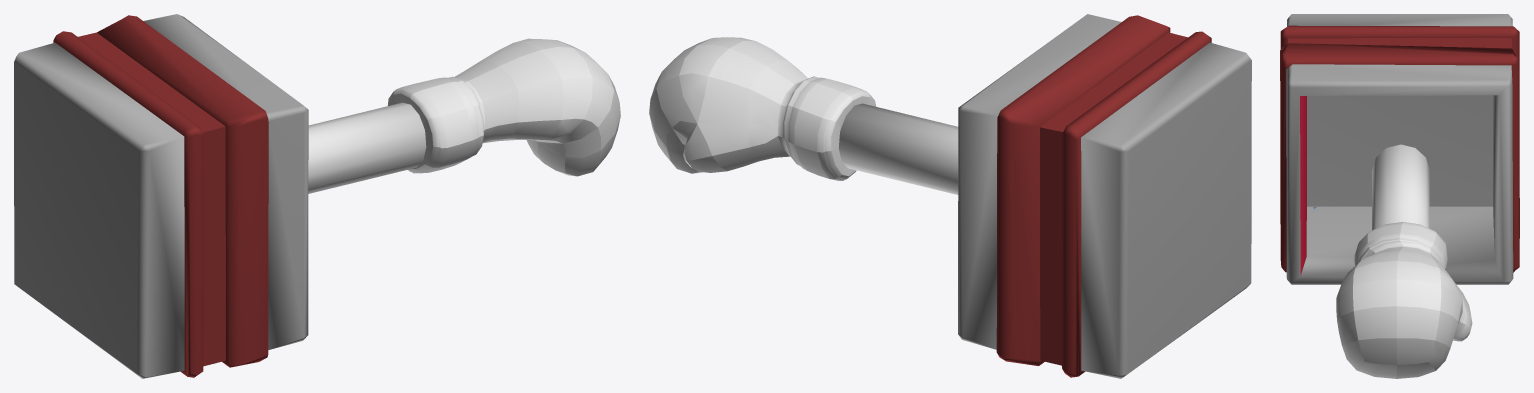
Rendered from Boxer.fbx.
The picture shows the model from 3 angles, left to right: view 1: azimuth 30°, elevation 25°; view 2: azimuth 150°, elevation 25°; view 3: azimuth 270°, elevation 25°; orthographic projection. The views are drawn at different scales.
Parts seen in each view (by area): view 1: Box, Boxing_hand; view 2: Box, Boxing_hand; view 3: Box, Boxing_hand.
Boxes of the visible parts, x1,y1,x2,y2 form: Box: [14, 14, 308, 378]; Boxing_hand: [308, 38, 620, 193]; Box: [958, 14, 1251, 378]; Boxing_hand: [649, 37, 958, 194]; Box: [1280, 14, 1519, 284]; Boxing_hand: [1336, 144, 1472, 378].
Size of the model in its own units: 278 by 126 by 126.
Materials: 5 (1 with a texture image).
